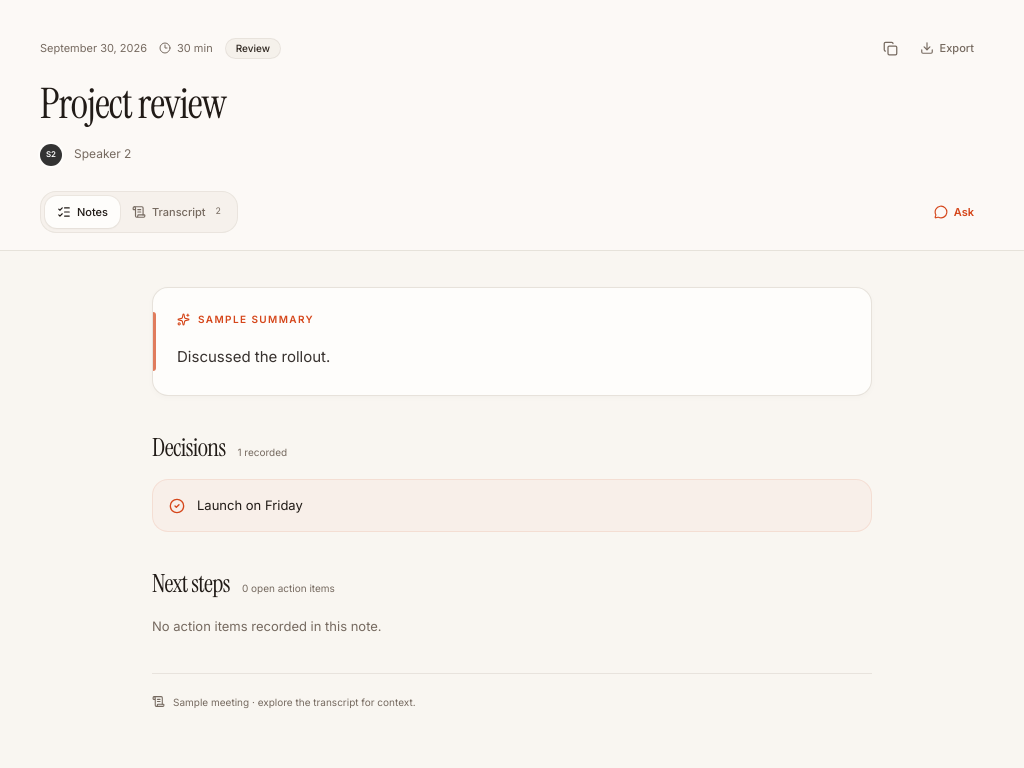
Test: meeting details › focuses the assistant, submits with Enter, and returns focus on Escape
Click the button "Ask" at x=954, y=212, box top-left (924, 190), bottom-right (984, 234)
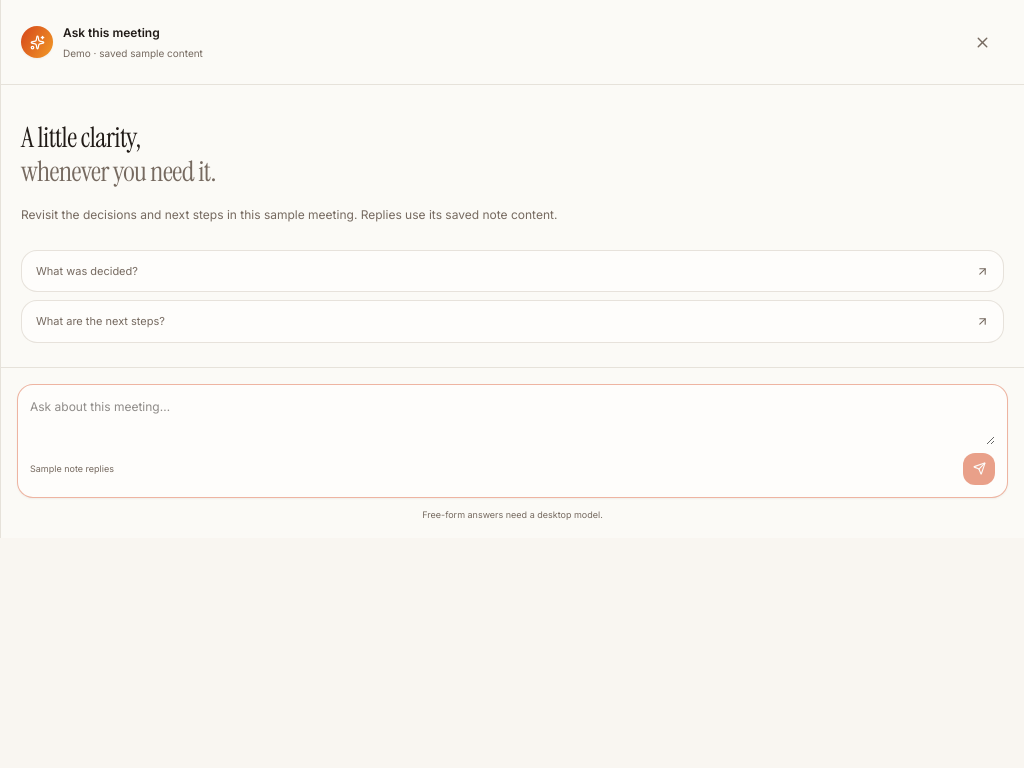
Type "When do we launch?" into the text box named "Ask the meeting assistant" at x=512, y=421, box top-left (30, 397), bottom-right (995, 445)
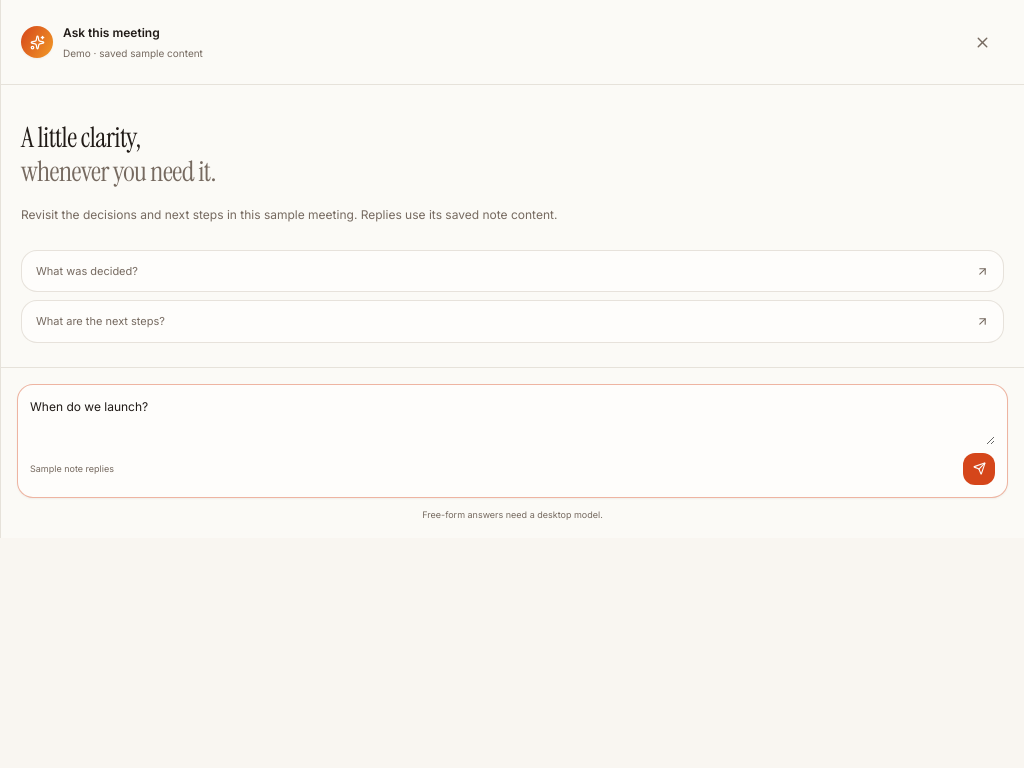
Press Enter in the text box named "Ask the meeting assistant", box top-left (30, 397), bottom-right (995, 445)
Press Enter in the text box named "Ask the meeting assistant", box top-left (30, 397), bottom-right (995, 445)
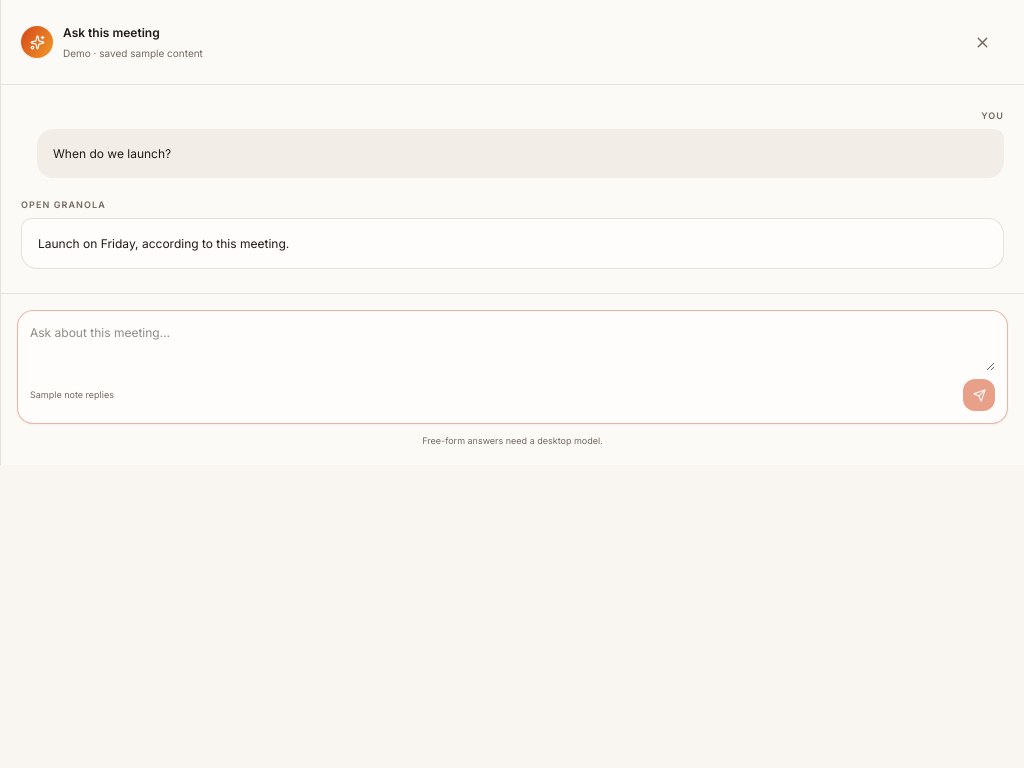
Expected: the text "Launch on Friday, according to this meeting." is shown, top-left (21, 218), bottom-right (1004, 269)
Press Escape in the text box named "Ask the meeting assistant", box top-left (30, 323), bottom-right (995, 371)
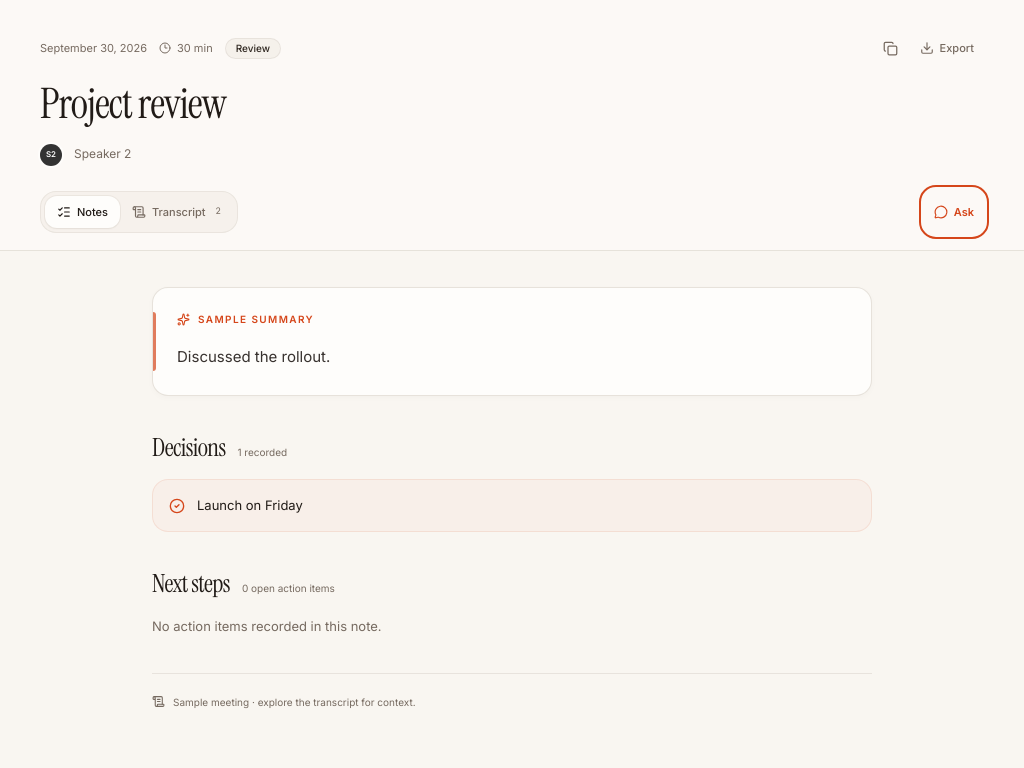
Expected: the button "Ask" is collapsed, top-left (924, 190), bottom-right (984, 234)
